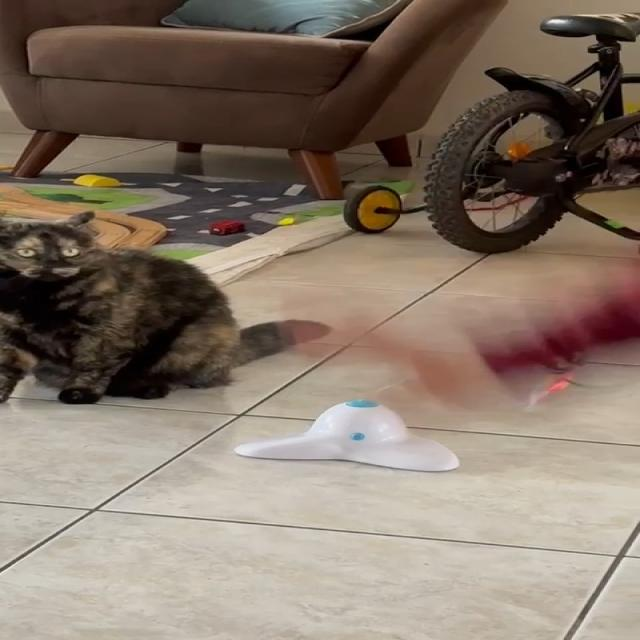authorized: (0, 210, 327, 404)
